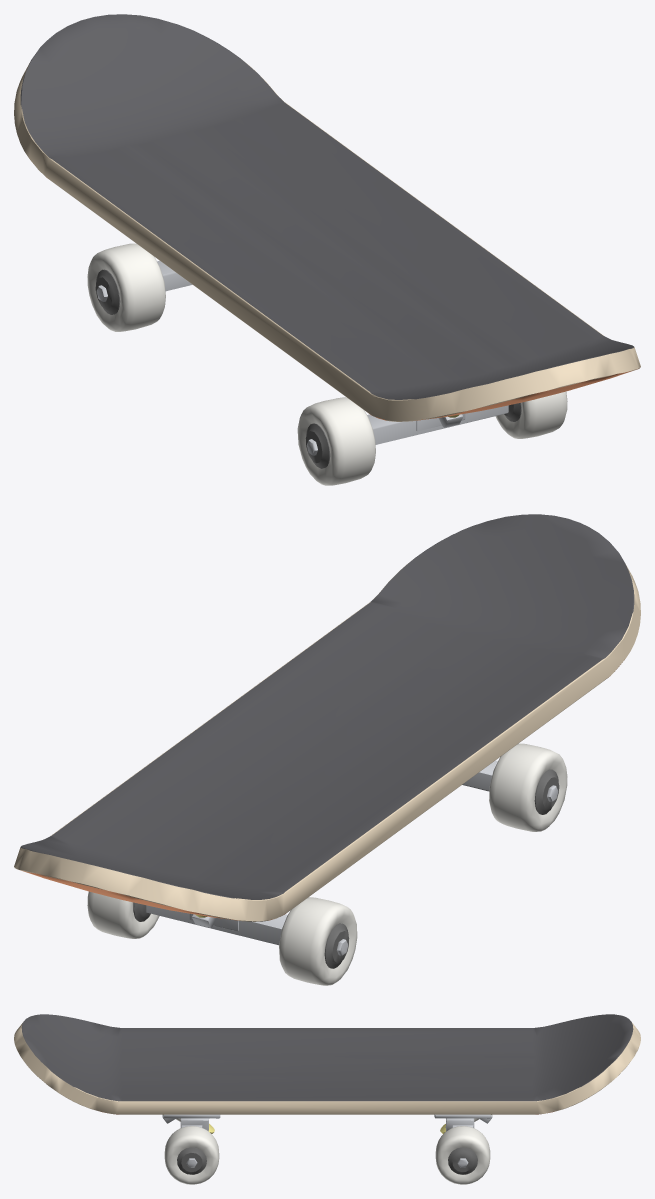
Rendered from fingerboard-mid.glb.
The picture shows the model from 3 angles, top to bottom: view 1: azimuth 30°, elevation 25°; view 2: azimuth 150°, elevation 25°; view 3: azimuth 270°, elevation 25°; orthographic projection. The views are drawn at different scales.
Parts seen in each view (by area): view 1: fingerboard.001; view 2: fingerboard.001; view 3: fingerboard.001.
Boxes of the visible parts, x1,y1,x2,y2 form: fingerboard.001: [14, 14, 640, 485]; fingerboard.001: [14, 514, 640, 985]; fingerboard.001: [14, 1014, 640, 1184].
Size of the model in its own units: 1.28 by 0.9418 by 4.4.
